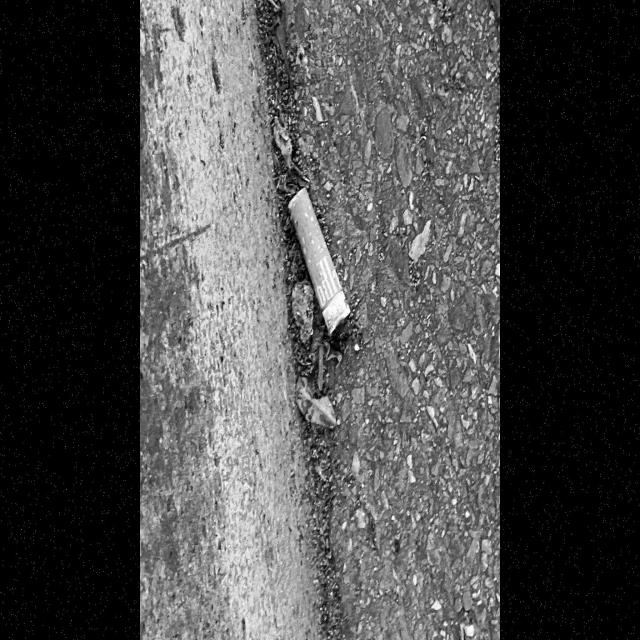other waste: (287, 185, 352, 338)
